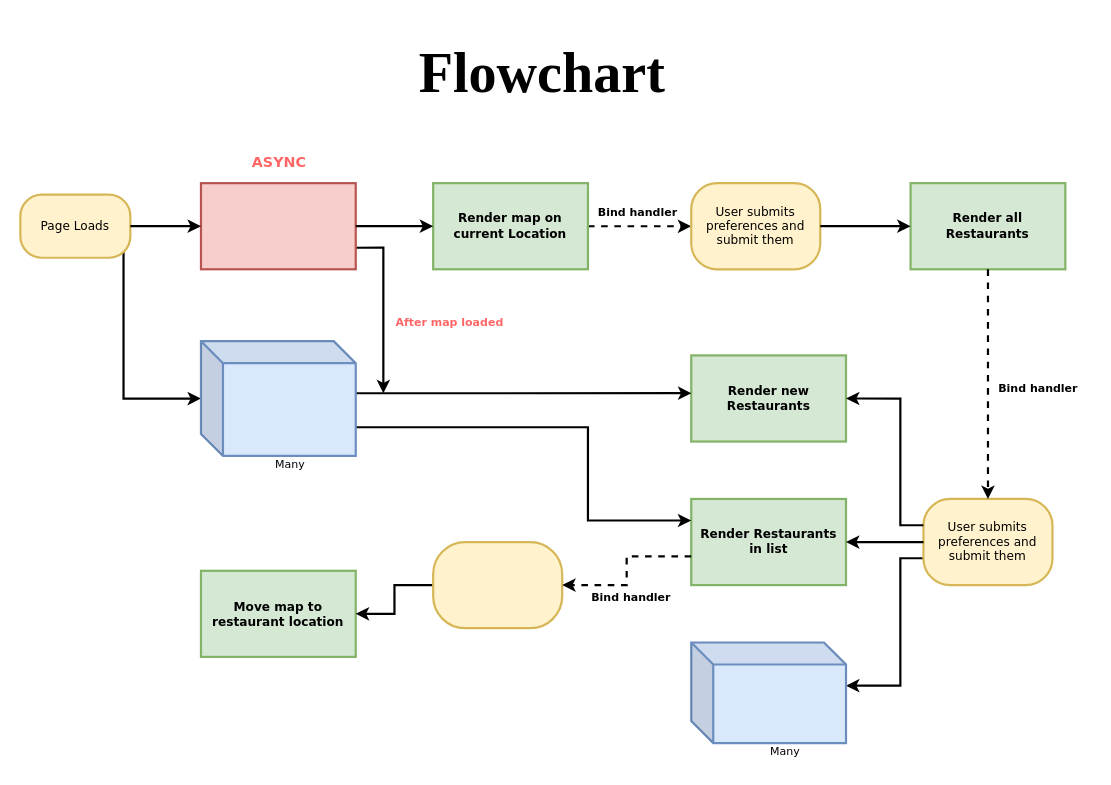
Some shapes in this 1111 by 785 pixel diagram are drawn without their labels. Here are the shapes that lost their labels. From the top down, the centre of each, then its label:
At (277,226): "Get current Location coordinates".
At (277,398): "Load restaurants from Local storage".
At (497,584): "User clicks on restaurant in list".
At (768,692): "Store the Restaurants in Local storage".
